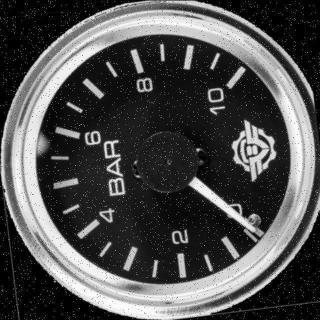gauge: (0, 0, 320, 320), (133, 130, 199, 192), (230, 207, 268, 241), (213, 69, 247, 101), (242, 218, 264, 236)
